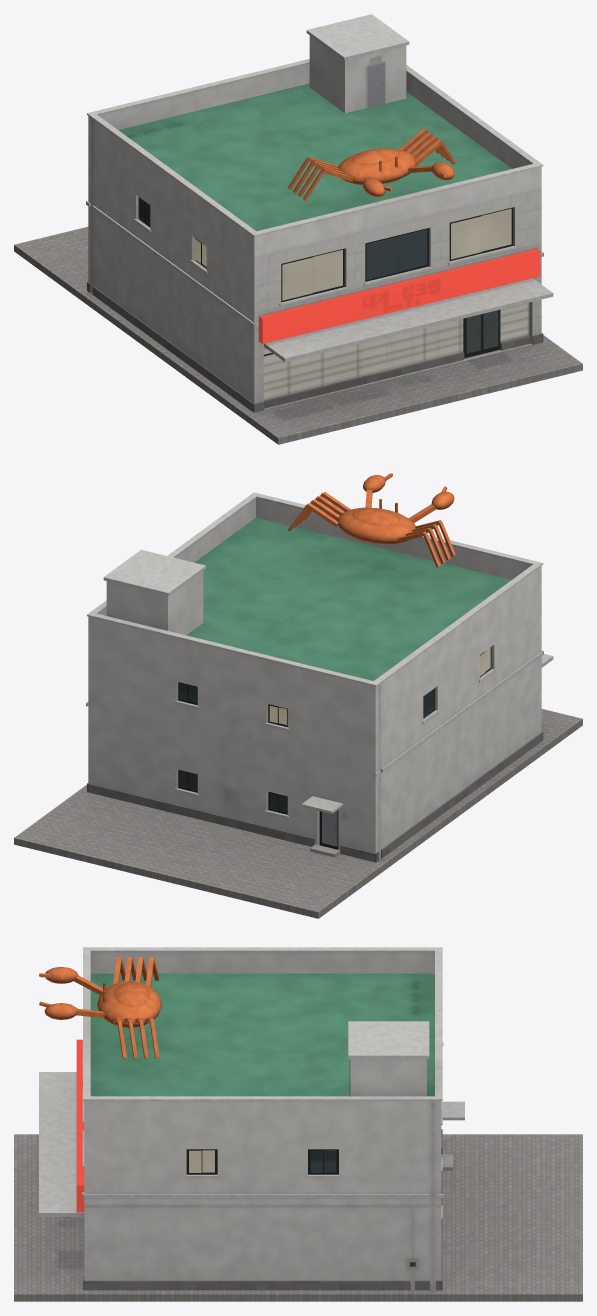
The model's file is IlsanCrab01_LOD2.fbx.
3 renders of one model, top to bottom at view 1: azimuth 30°, elevation 25°; view 2: azimuth 150°, elevation 25°; view 3: azimuth 270°, elevation 25°, orthographic. The views are drawn at different scales.
Parts seen in each view (by area): view 1: IlsanCrab01_LOD2; view 2: IlsanCrab01_LOD2; view 3: IlsanCrab01_LOD2.
Boxes of the visible parts, box(x1,y1,x2,y2) form: IlsanCrab01_LOD2: box(14, 14, 582, 444); IlsanCrab01_LOD2: box(14, 473, 582, 918); IlsanCrab01_LOD2: box(14, 947, 582, 1301).
Size of the model in its own units: 15.9 by 10.95 by 23.9.
Materials: 1 (1 with a texture image).
